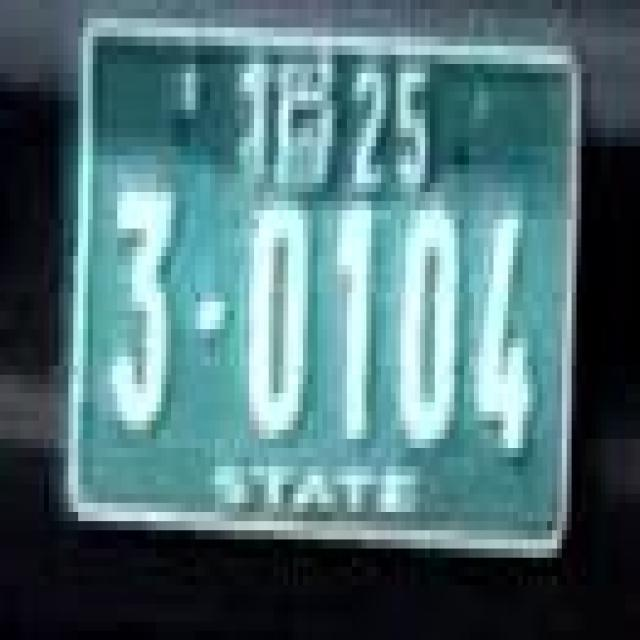State: (240, 46, 338, 191)
